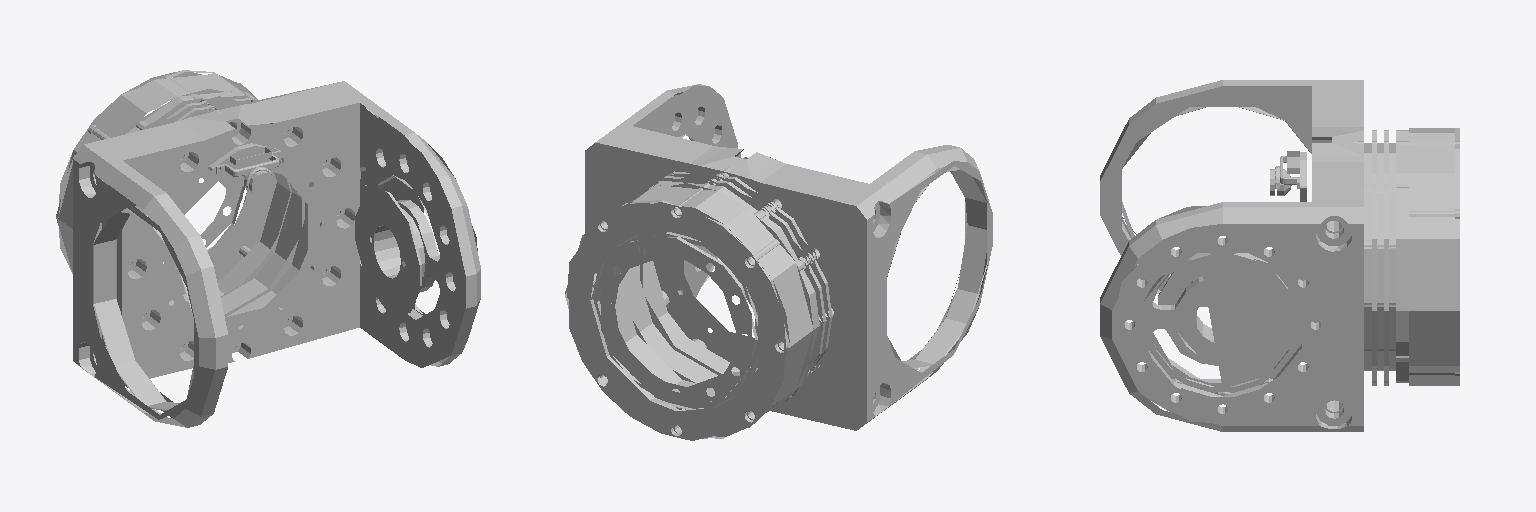
The model's file is torso_yaw_joint.obj.
3 views of the same model, side by side, from view 1: azimuth 30°, elevation 25°; view 2: azimuth 150°, elevation 25°; view 3: azimuth 270°, elevation 25° (orthographic).
Bounding box in the file's own units: 0.1315 × 0.1038 × 0.1452.